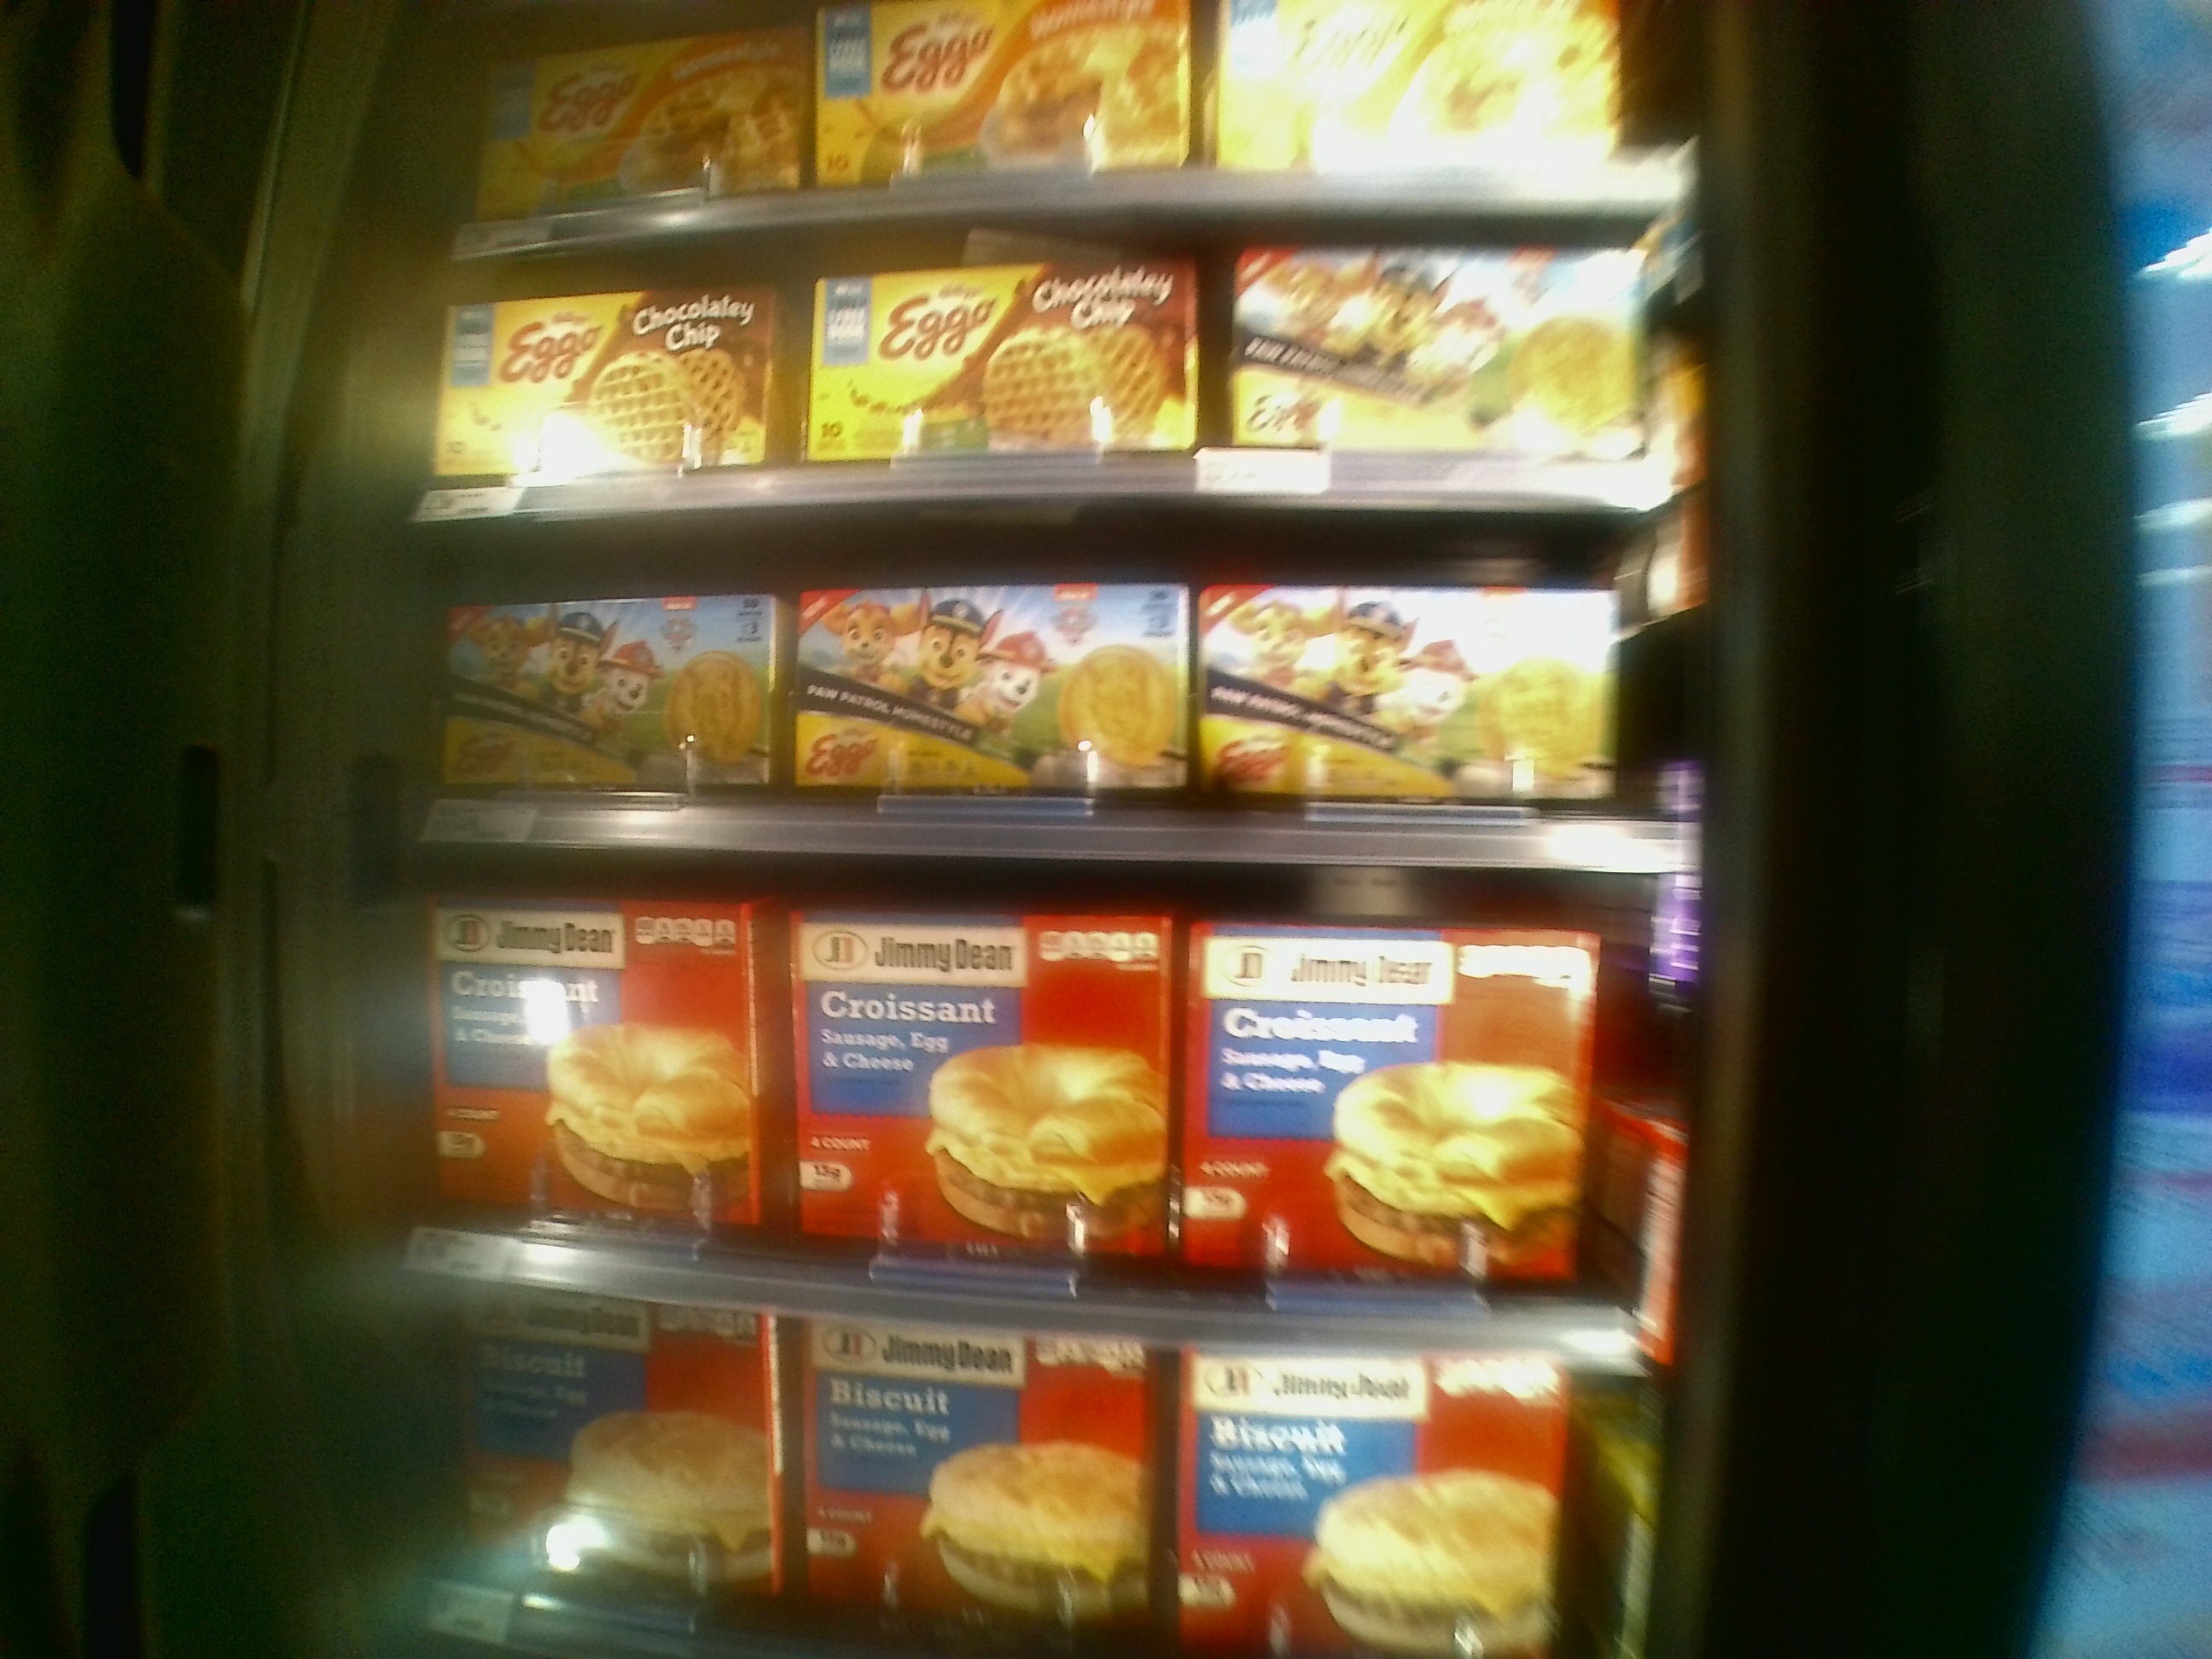shelf: (411, 847, 1663, 1351), (432, 505, 1695, 871), (425, 199, 1691, 502)
